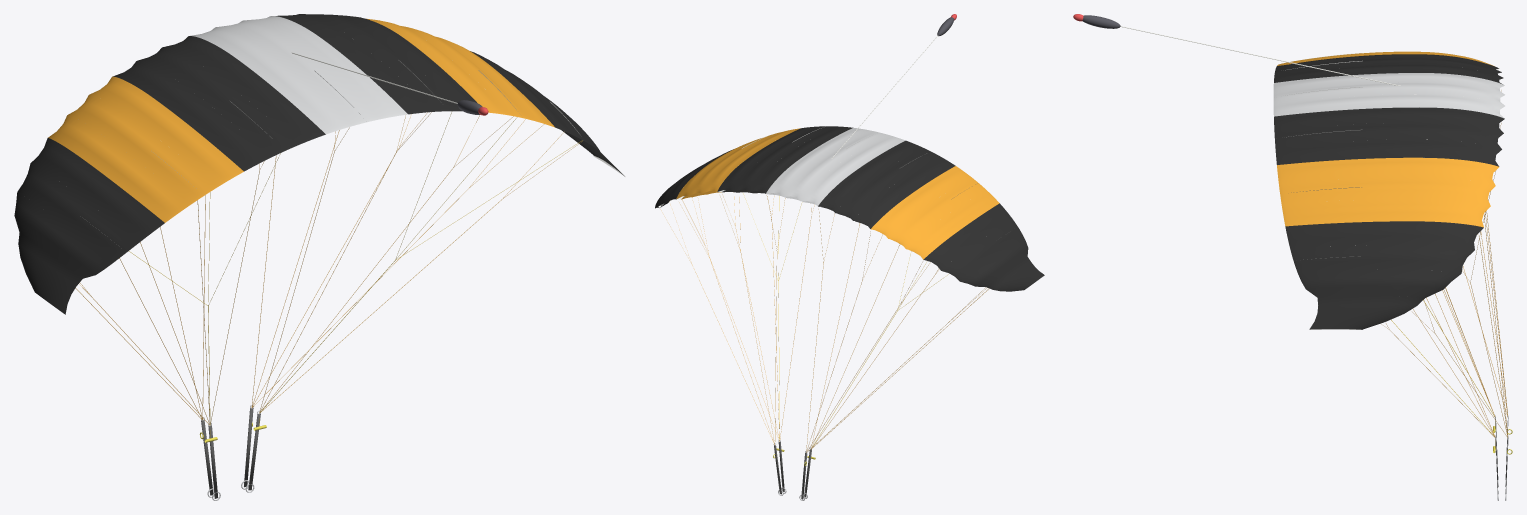
Rendered from PD_Valkyrie_84.glb.
The picture shows the model from 3 angles, left to right: view 1: azimuth 30°, elevation 25°; view 2: azimuth 150°, elevation 25°; view 3: azimuth 270°, elevation 25°; orthographic projection. The views are drawn at different scales.
Visible parts, largest first — view 1: TopSkin, Lines, Risers, SteeringLines; view 2: TopSkin, Lines, Risers, SteeringLines; view 3: TopSkin, Lines, PilotChute.
Part boxes in pixels (left/top/right/bottom): TopSkin: left=14, top=14, right=618, bottom=314; Lines: left=75, top=112, right=582, bottom=425; Risers: left=199, top=405, right=266, bottom=500; SteeringLines: left=129, top=112, right=582, bottom=437; TopSkin: left=655, top=126, right=1044, bottom=291; Lines: left=660, top=192, right=988, bottom=452; Risers: left=773, top=440, right=815, bottom=500; SteeringLines: left=743, top=193, right=948, bottom=446; TopSkin: left=1273, top=51, right=1504, bottom=329; Lines: left=1381, top=90, right=1507, bottom=437; PilotChute: left=1073, top=14, right=1400, bottom=85.
Bounding box in the file's own units: 4.38 × 4.24 × 3.52.
